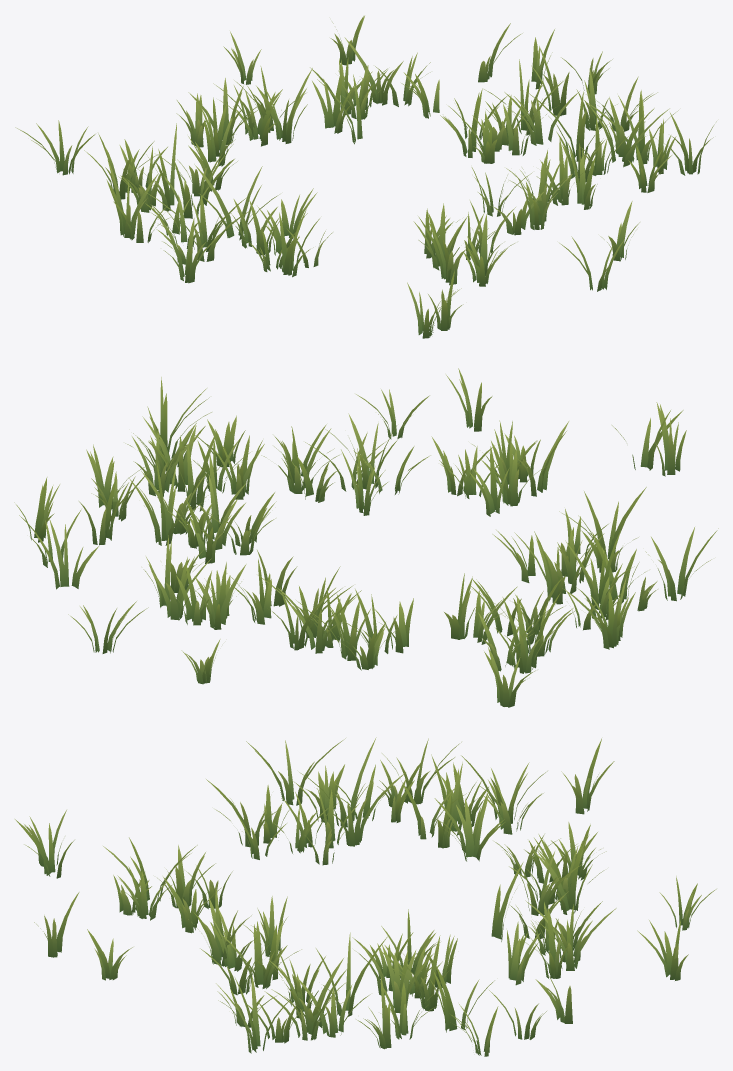
File: root_grass_v08.glb
3 views of the same model, one above another, from view 1: azimuth 30°, elevation 25°; view 2: azimuth 150°, elevation 25°; view 3: azimuth 270°, elevation 25° (orthographic). The views are drawn at different scales.
Visible parts, largest first — view 1: Root_Grass_v08; view 2: Root_Grass_v08; view 3: Root_Grass_v08.
Part boxes in pixels (box(x1,y1,x2,y2)): Root_Grass_v08: box(15, 15, 716, 338); Root_Grass_v08: box(14, 368, 718, 707); Root_Grass_v08: box(15, 737, 716, 1056).
Size of the model in its own units: 3.09 by 0.3389 by 3.31.
